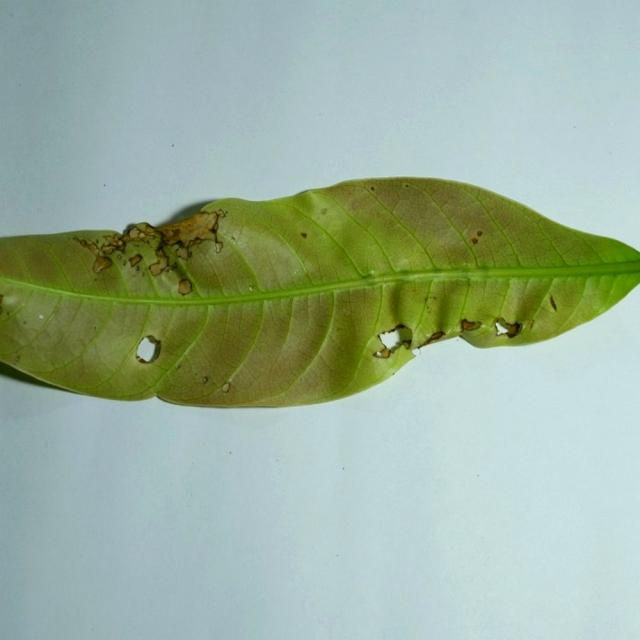Anthracnose: (374, 315, 524, 360), (362, 325, 419, 366), (164, 220, 230, 254), (75, 237, 116, 275), (9, 304, 54, 333), (532, 292, 559, 324), (134, 335, 161, 364), (119, 225, 155, 246), (416, 330, 446, 349), (495, 318, 524, 337), (147, 252, 169, 276), (176, 276, 195, 297), (378, 328, 400, 346), (102, 233, 124, 248), (174, 245, 189, 262), (461, 320, 481, 332), (469, 231, 484, 246), (128, 253, 143, 267), (373, 348, 392, 359), (101, 243, 117, 255), (428, 331, 444, 341), (220, 381, 233, 393), (394, 323, 408, 334), (137, 353, 148, 364), (550, 295, 557, 311), (14, 355, 21, 362), (471, 238, 478, 245), (320, 208, 327, 215), (300, 232, 307, 238), (477, 231, 483, 237), (203, 376, 208, 383), (405, 184, 409, 188)
Mango: (1, 179, 639, 412)
